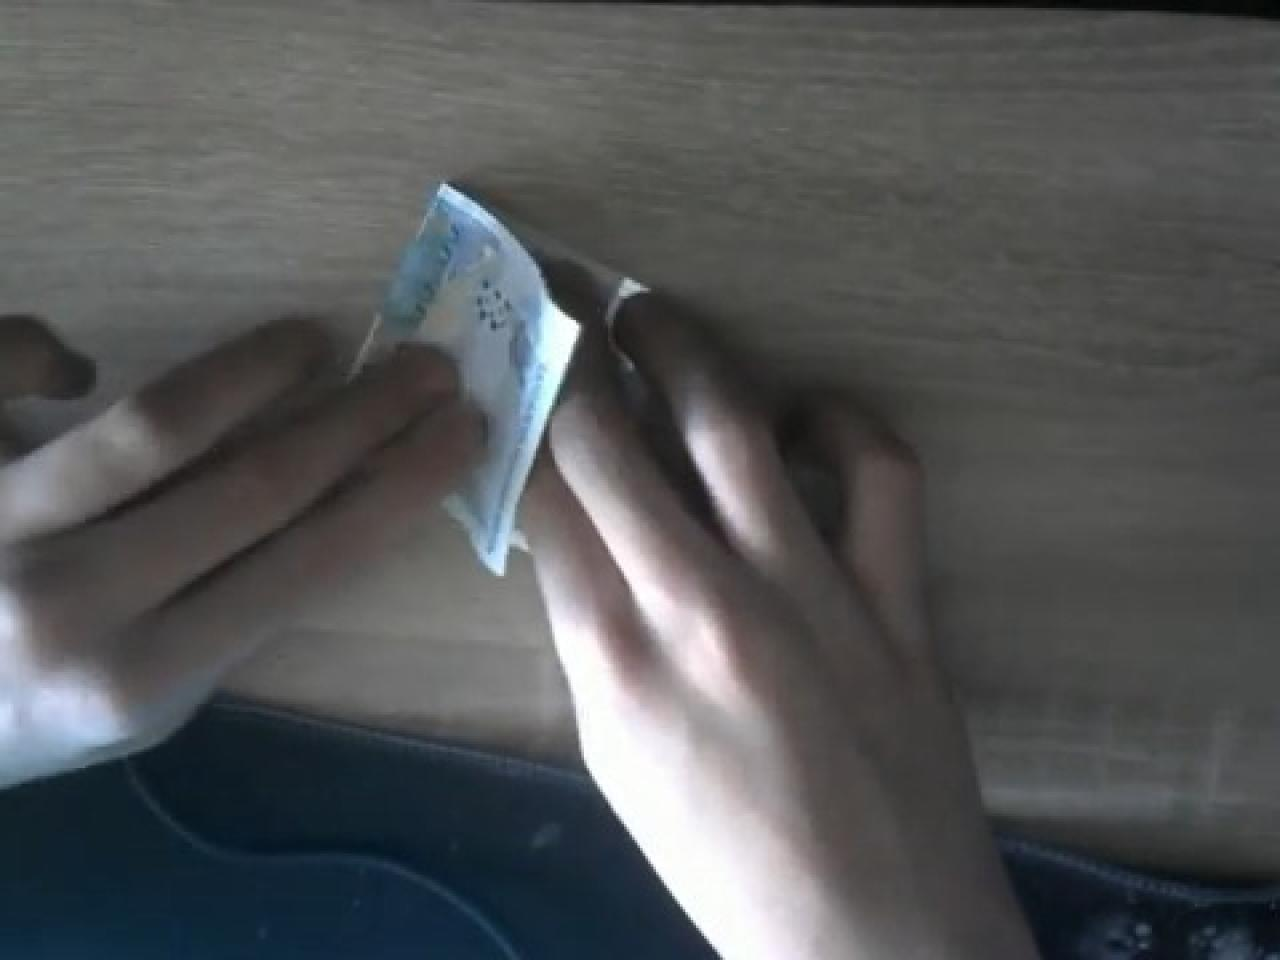20leva: (350, 182, 595, 582)
